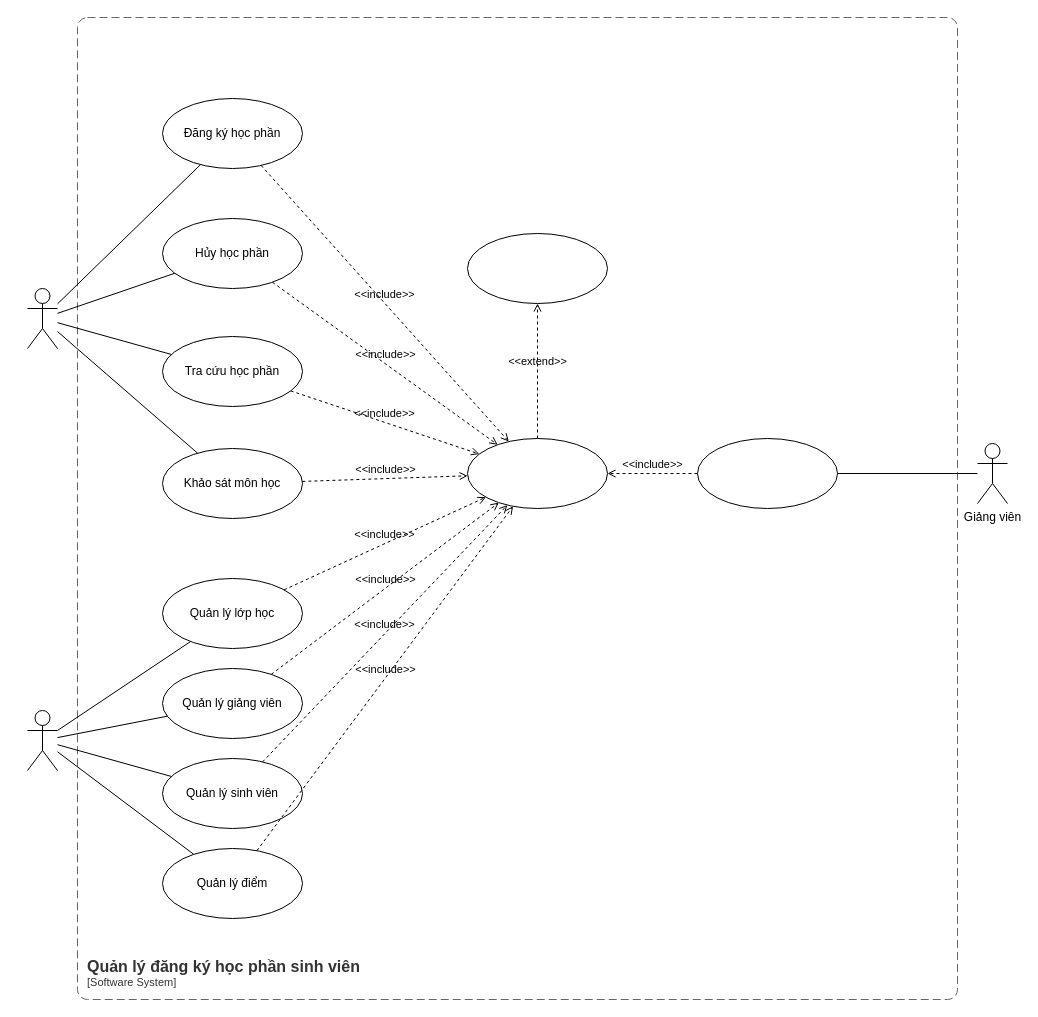
This 1038x1017 diagram has some shape labels left out. The centre of each missing label's shape, as x and y in pixels:
"Admin" belongs at pixel 42 740.
"Quên mật khẩu" belongs at pixel 537 268.
"Sinh Viên" belongs at pixel 42 318.
"Đăng ký lịch dạy" belongs at pixel 767 473.
"Đăng nhập" belongs at pixel 537 473.
